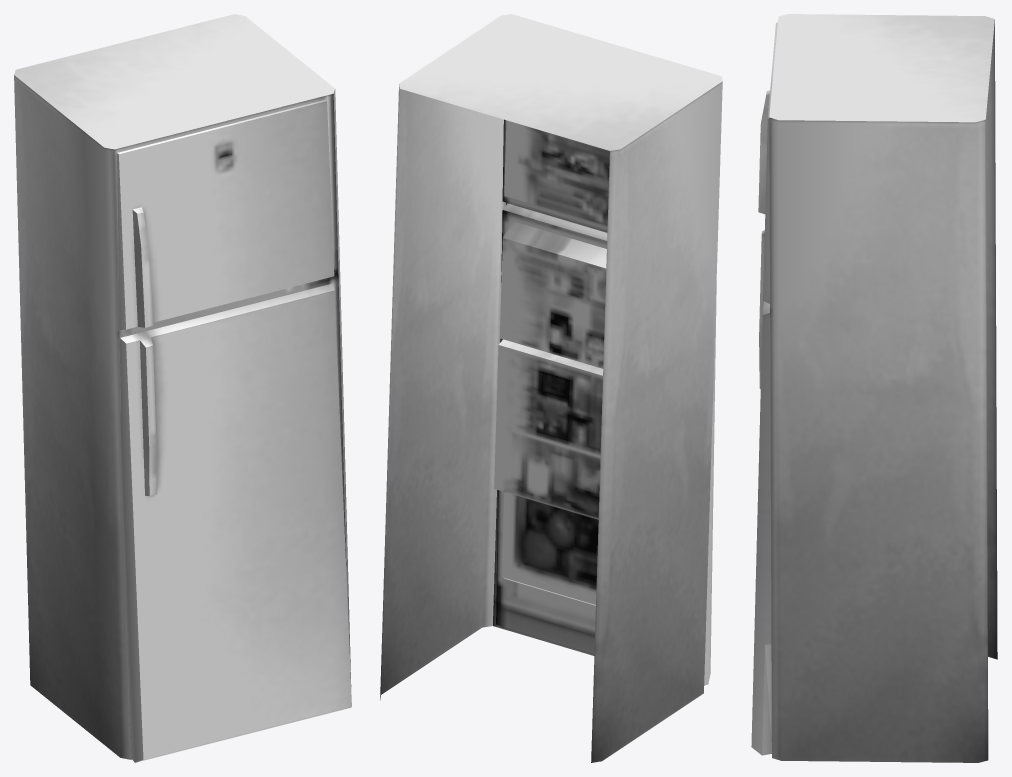
Rendered from B_Daily_R_St_N_Electric_0002.obj.
3 renders of one model, left to right at view 1: azimuth 30°, elevation 25°; view 2: azimuth 150°, elevation 25°; view 3: azimuth 270°, elevation 25°, orthographic. The views are drawn at different scales.
Parts seen in each view (by area): view 1: B_Daily_R_St_N_Electric_0002:B_Electric_0_007_2, B_Daily_R_St_N_Electric_0002:B_Electric_0_007_4, B_Daily_R_St_N_Electric_0002:B_Electric_0_007_5; view 2: B_Daily_R_St_N_Electric_0002:B_Electric_0_007_4, B_Daily_R_St_N_Electric_0002:B_Electric_0_007_2, B_Daily_R_St_N_Electric_0002:B_Electric_0_007_5; view 3: B_Daily_R_St_N_Electric_0002:B_Electric_0_007_4, B_Daily_R_St_N_Electric_0002:B_Electric_0_007_2, B_Daily_R_St_N_Electric_0002:B_Electric_0_007_5.
Boxes of the visible parts, x1,y1,x2,y2 form: B_Daily_R_St_N_Electric_0002:B_Electric_0_007_2: (120,283,351,762); B_Daily_R_St_N_Electric_0002:B_Electric_0_007_4: (14,14,351,759); B_Daily_R_St_N_Electric_0002:B_Electric_0_007_5: (117,99,334,329); B_Daily_R_St_N_Electric_0002:B_Electric_0_007_4: (380,14,722,762); B_Daily_R_St_N_Electric_0002:B_Electric_0_007_2: (496,203,716,685); B_Daily_R_St_N_Electric_0002:B_Electric_0_007_5: (502,119,607,232); B_Daily_R_St_N_Electric_0002:B_Electric_0_007_4: (769,14,997,762); B_Daily_R_St_N_Electric_0002:B_Electric_0_007_2: (751,230,771,755); B_Daily_R_St_N_Electric_0002:B_Electric_0_007_5: (758,22,777,303).
Bounding box in the file's own units: 32.21 × 76.75 × 26.75.
Materials: 1 (1 with a texture image).
